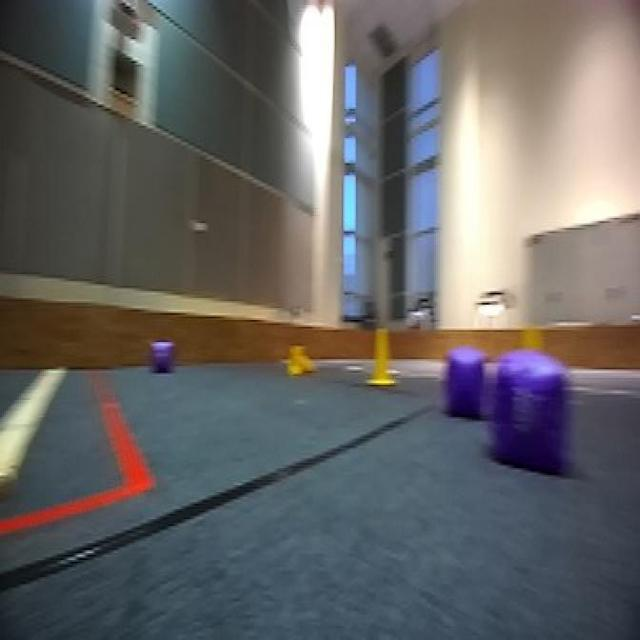frc_cone: (367, 323, 399, 390), (283, 340, 317, 380)
frc_cube: (488, 354, 570, 470), (446, 359, 484, 412), (148, 338, 173, 379)
